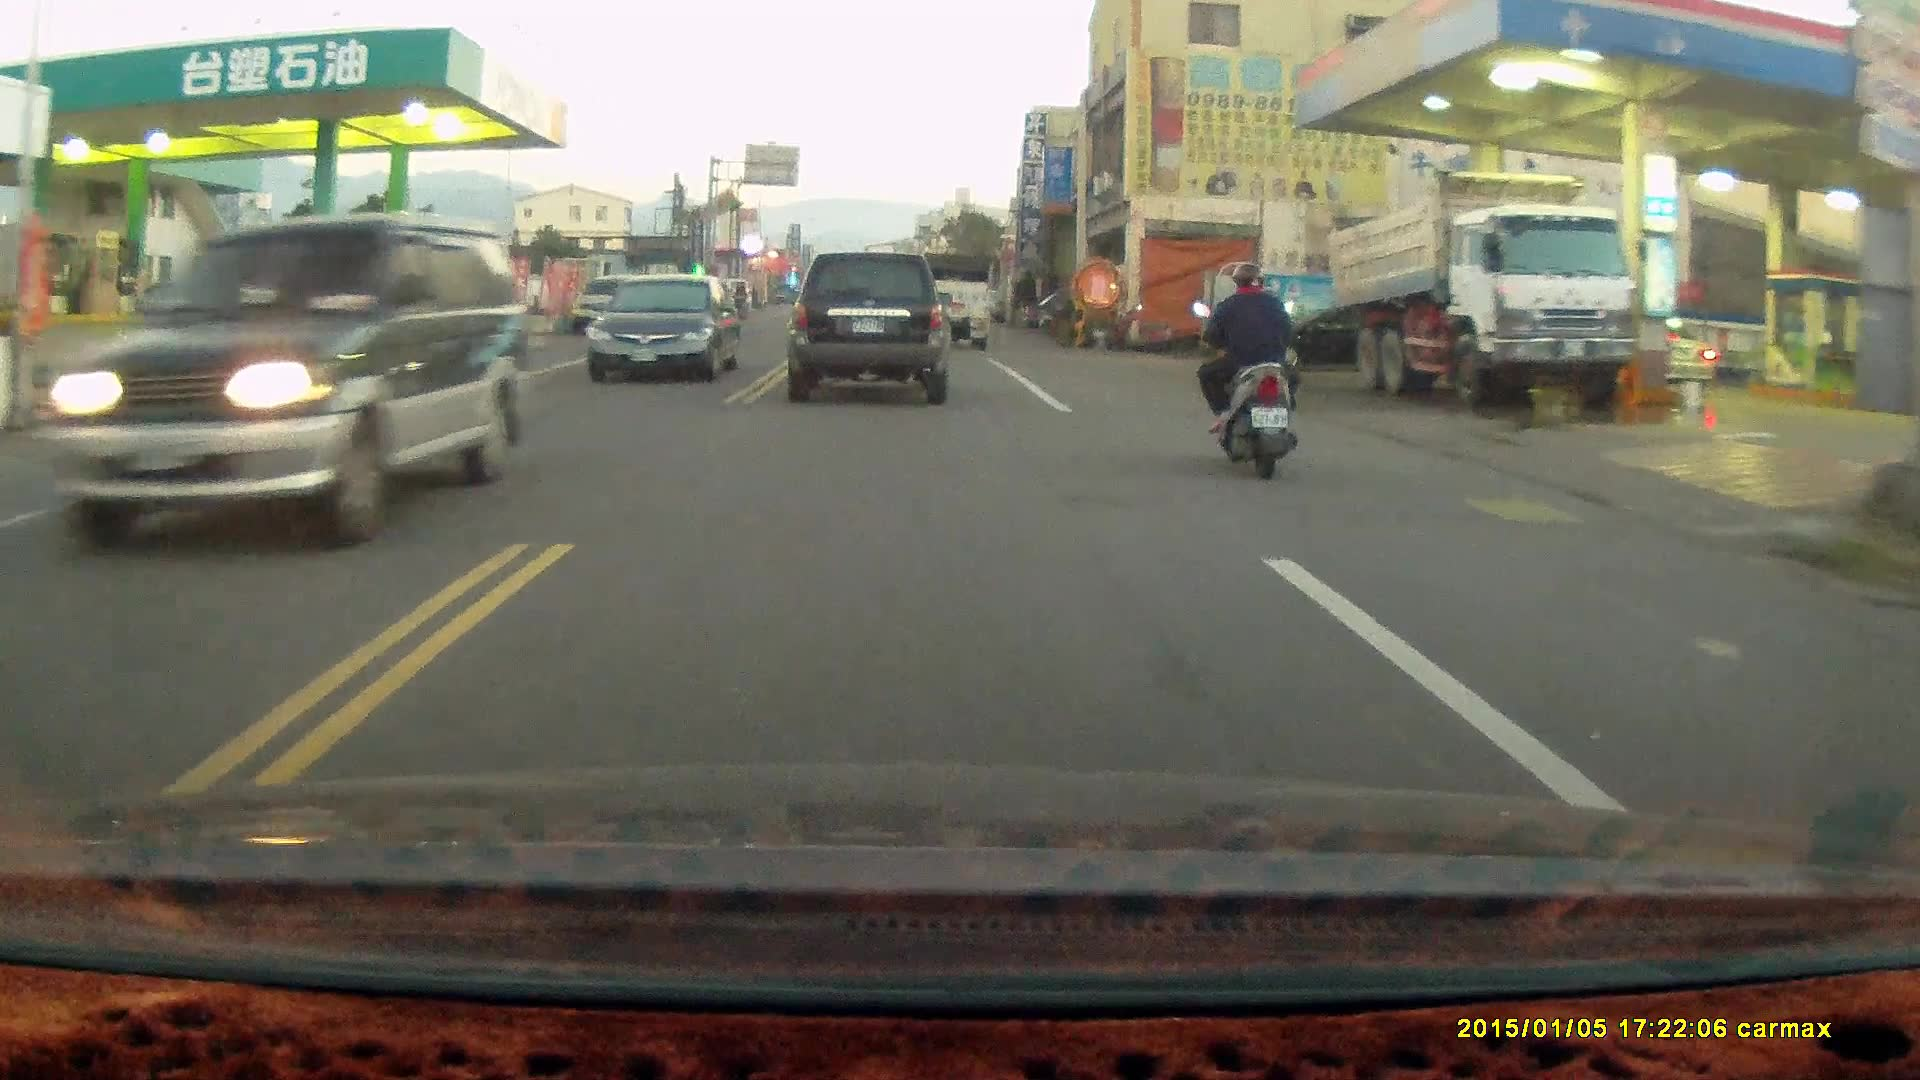rider: (1192, 261, 1300, 483)
vehicle: (29, 222, 535, 559), (1328, 171, 1637, 404), (793, 250, 954, 405), (587, 272, 746, 388), (900, 251, 993, 349)
